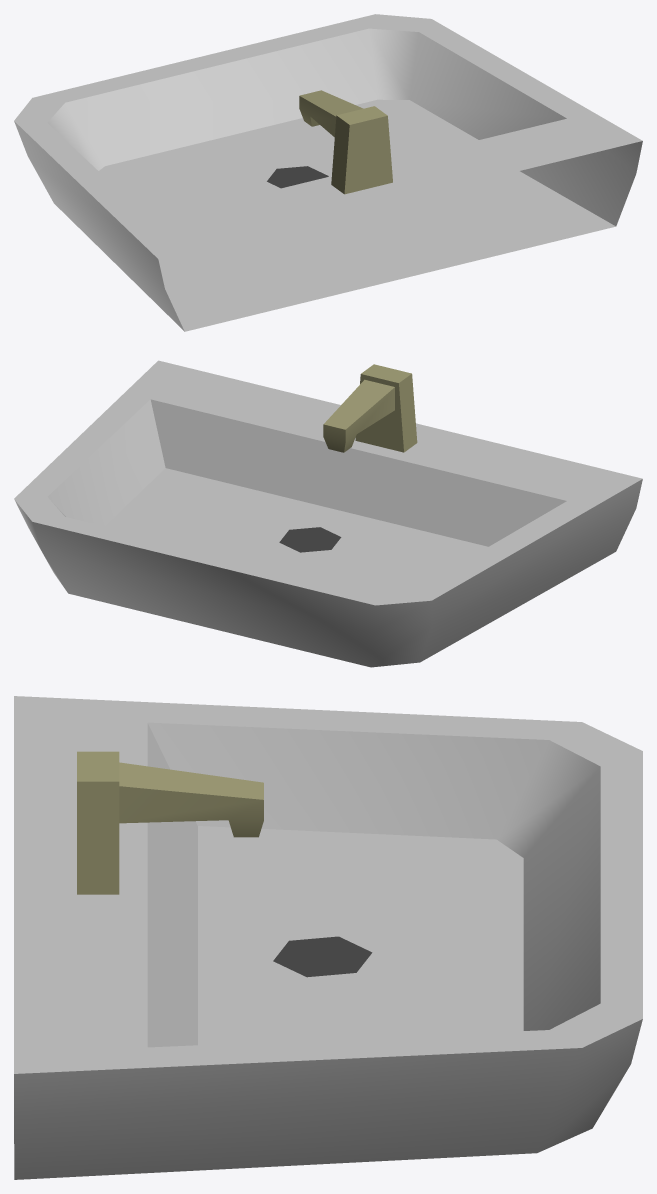
Rendered from SM_Wash_01.FBX.
3 renders of one model, top to bottom at view 1: azimuth 30°, elevation 25°; view 2: azimuth 150°, elevation 25°; view 3: azimuth 270°, elevation 25°, orthographic. The views are drawn at different scales.
Parts seen in each view (by area): view 1: SM_Wash_01; view 2: SM_Wash_01; view 3: SM_Wash_01.
Part boxes in pixels (<box>): SM_Wash_01: <box>14,14,642,331</box>; SM_Wash_01: <box>14,360,642,667</box>; SM_Wash_01: <box>14,696,642,1179</box>.
Size of the model in its own units: 101 by 71.17 by 29.42.
